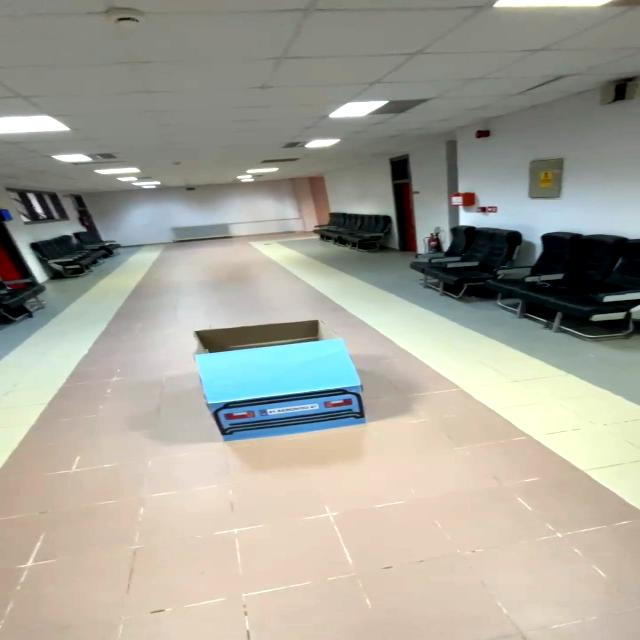blue_car: (172, 310, 404, 453)
